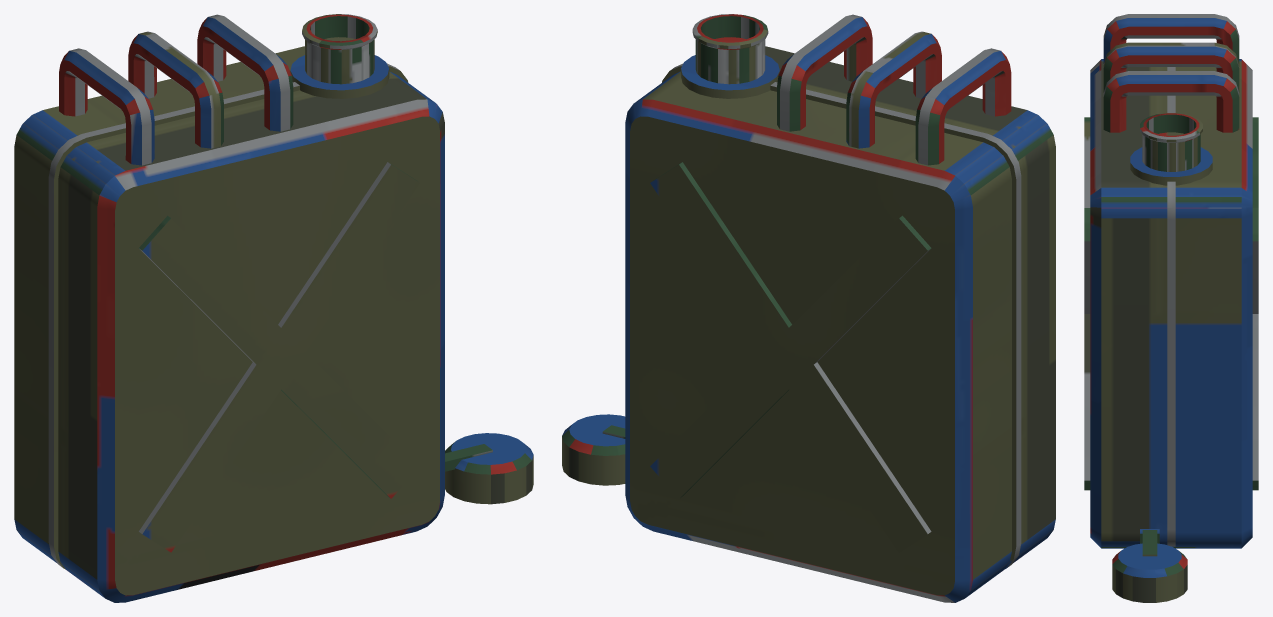
File: open.obj
The picture shows the model from 3 angles, left to right: view 1: azimuth 30°, elevation 25°; view 2: azimuth 150°, elevation 25°; view 3: azimuth 270°, elevation 25°; orthographic projection. The views are drawn at different scales.
Visible parts, largest first — view 1: jerry_can__body__body, jerry_can__body__x_ribs, jerry_can__body__handles, jerry_can__body__bead, jerry_can__body__spout_cap, jerry_can__body__spout_neck, jerry_can__body__spout_boss, jerry_can__body__spout_bore; view 2: jerry_can__body__body, jerry_can__body__x_ribs, jerry_can__body__handles, jerry_can__body__bead, jerry_can__body__spout_cap, jerry_can__body__spout_neck, jerry_can__body__spout_boss, jerry_can__body__spout_bore; view 3: jerry_can__body__body, jerry_can__body__handles, jerry_can__body__x_ribs, jerry_can__body__spout_cap, jerry_can__body__bead, jerry_can__body__spout_neck, jerry_can__body__spout_boss, jerry_can__body__spout_bore, jerry_can__body__cam_lever.
Part boxes in pixels (x1=…): jerry_can__body__body: x1=14, y1=46, x2=444, y2=602; jerry_can__body__x_ribs: x1=139, y1=162, x2=419, y2=552; jerry_can__body__handles: x1=59, y1=14, x2=293, y2=165; jerry_can__body__bead: x1=48, y1=63, x2=408, y2=569; jerry_can__body__spout_cap: x1=445, y1=433, x2=533, y2=504; jerry_can__body__spout_neck: x1=302, y1=14, x2=377, y2=84; jerry_can__body__spout_boss: x1=290, y1=55, x2=389, y2=98; jerry_can__body__spout_bore: x1=310, y1=16, x2=369, y2=41; jerry_can__body__body: x1=625, y1=46, x2=1055, y2=602; jerry_can__body__x_ribs: x1=650, y1=162, x2=931, y2=552; jerry_can__body__handles: x1=777, y1=14, x2=1011, y2=165; jerry_can__body__bead: x1=662, y1=63, x2=1021, y2=568; jerry_can__body__spout_cap: x1=562, y1=414, x2=625, y2=485; jerry_can__body__spout_neck: x1=692, y1=14, x2=768, y2=84; jerry_can__body__spout_boss: x1=681, y1=55, x2=779, y2=98; jerry_can__body__spout_bore: x1=700, y1=16, x2=759, y2=41; jerry_can__body__body: x1=1090, y1=59, x2=1252, y2=548; jerry_can__body__handles: x1=1103, y1=14, x2=1239, y2=132; jerry_can__body__x_ribs: x1=1084, y1=117, x2=1258, y2=490; jerry_can__body__spout_cap: x1=1112, y1=543, x2=1187, y2=602; jerry_can__body__bead: x1=1167, y1=67, x2=1175, y2=546; jerry_can__body__spout_neck: x1=1140, y1=113, x2=1202, y2=171; jerry_can__body__spout_boss: x1=1130, y1=147, x2=1212, y2=185; jerry_can__body__spout_bore: x1=1146, y1=114, x2=1196, y2=135; jerry_can__body__cam_lever: x1=1140, y1=529, x2=1159, y2=556.
Bounding box in the file's own units: 0.6433 × 0.6593 × 0.2485.
